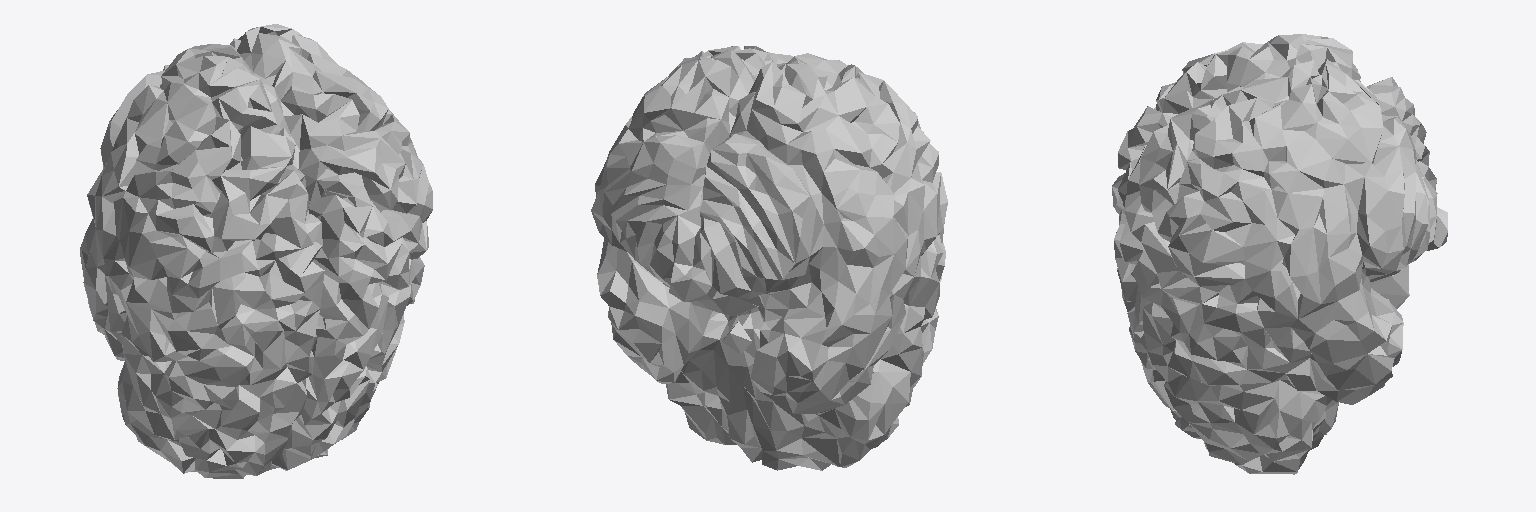
Rendered from cortex_low.obj.
3 renders of one model, left to right at view 1: azimuth 30°, elevation 25°; view 2: azimuth 150°, elevation 25°; view 3: azimuth 270°, elevation 25°, orthographic.
Parts seen in each view (by area): view 1: cortex_cortex; view 2: cortex_cortex; view 3: cortex_cortex.
Part boxes in pixels (left/top/right/bottom): cortex_cortex: left=80, top=24, right=432, bottom=478; cortex_cortex: left=591, top=46, right=947, bottom=470; cortex_cortex: left=1112, top=34, right=1447, bottom=474.
Size of the model in its own units: 13.21 by 17.61 by 13.04.